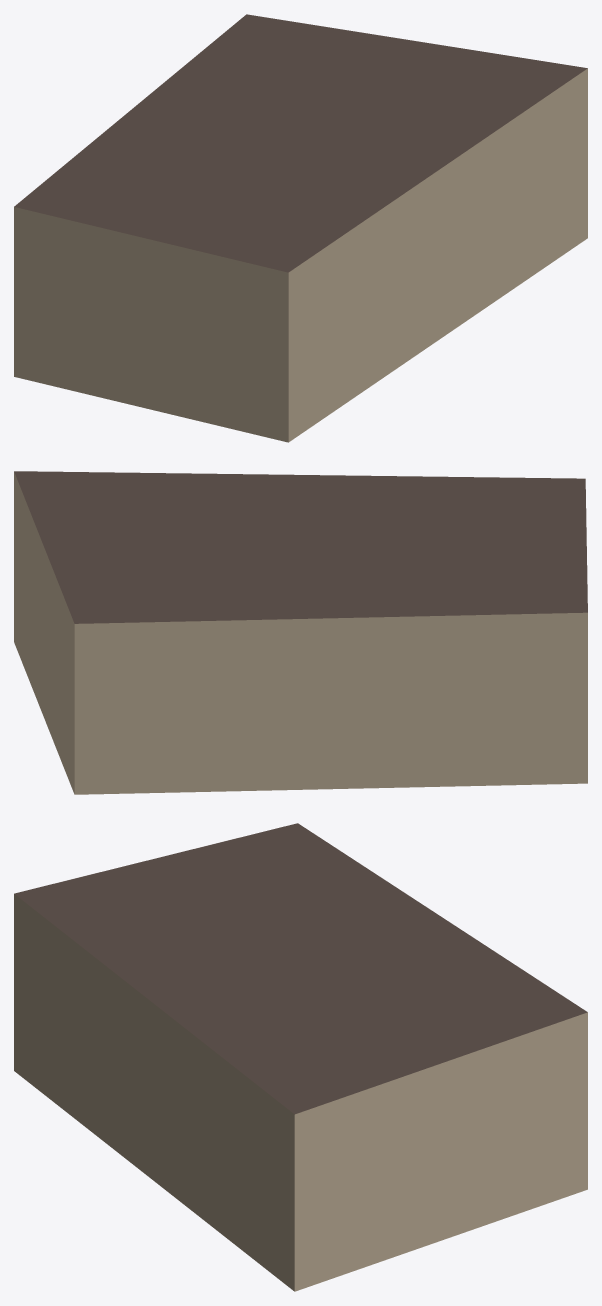
3 renders of one model, top to bottom at view 1: azimuth 30°, elevation 25°; view 2: azimuth 150°, elevation 25°; view 3: azimuth 270°, elevation 25°, orthographic. The views are drawn at different scales.
Visible parts, largest first — view 1: HP-w1512359800; view 2: HP-w1512359800; view 3: HP-w1512359800.
Boxes of the visible parts, left/top/right/bottom form: HP-w1512359800: left=14, top=14, right=587, bottom=442; HP-w1512359800: left=14, top=471, right=587, bottom=794; HP-w1512359800: left=14, top=823, right=587, bottom=1291.
Bounding box in the file's own units: 31.72 × 9 × 26.41.
